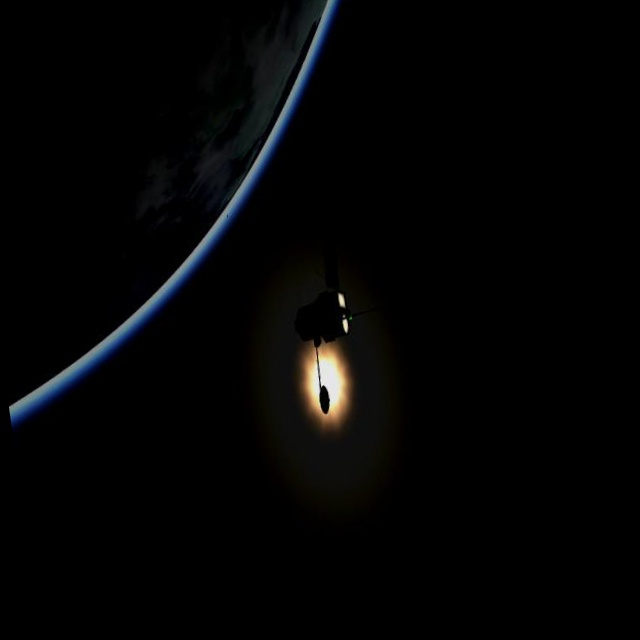satellite: (259, 191, 393, 424)
